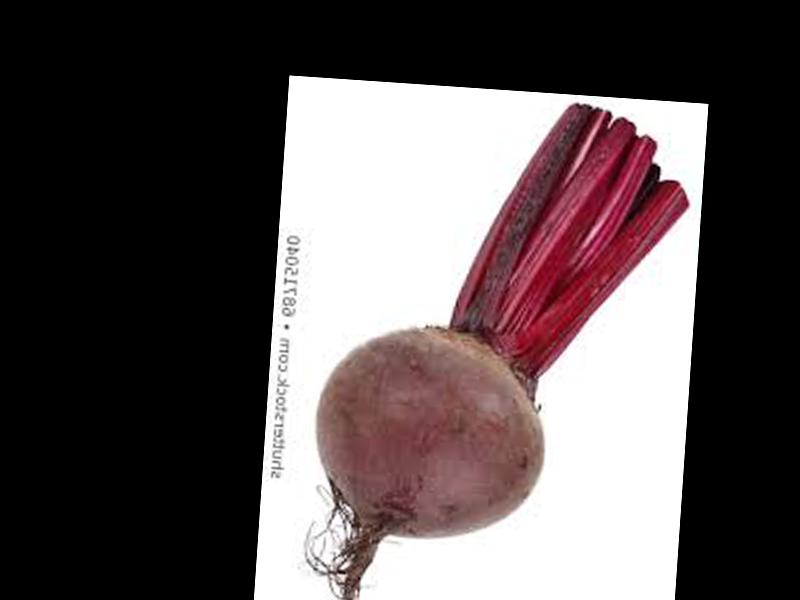Beet: (304, 87, 692, 600)
